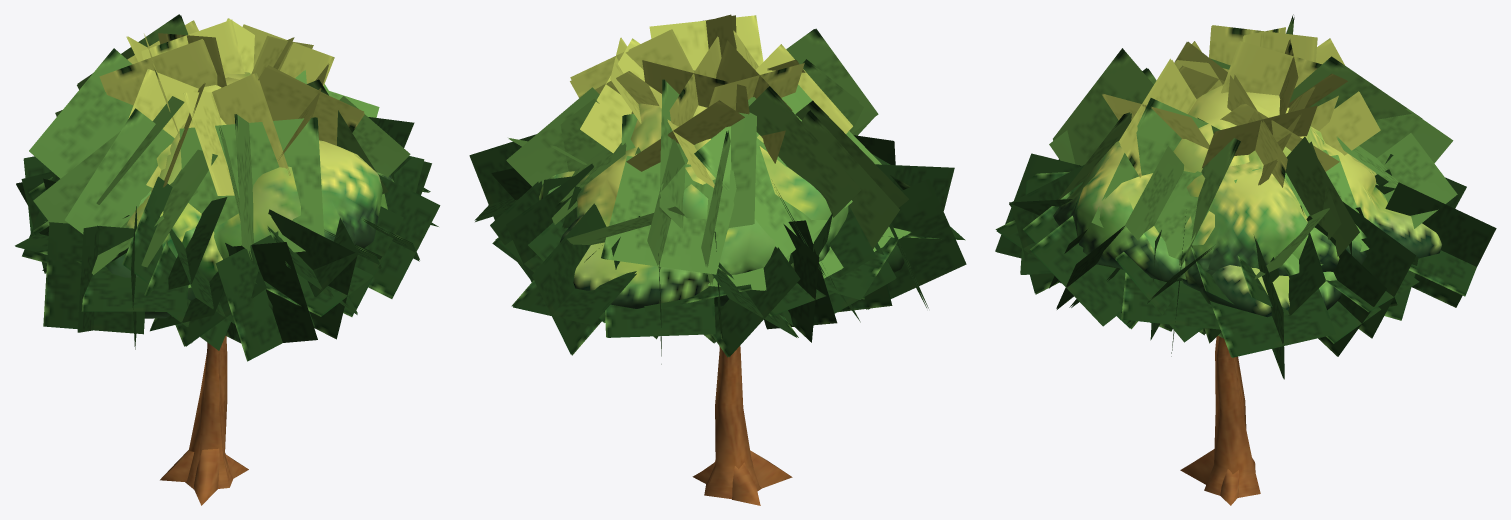
Rendered from tree2.glb.
3 views of the same model, side by side, from view 1: azimuth 30°, elevation 25°; view 2: azimuth 150°, elevation 25°; view 3: azimuth 270°, elevation 25° (orthographic). The views are drawn at different scales.
Visible parts, largest first — view 1: leaf; view 2: leaf; view 3: leaf.
Part boxes in pixels (<box>): leaf: <box>15,14,440,505</box>; leaf: <box>469,14,966,505</box>; leaf: <box>995,14,1496,505</box>.
Bounding box in the file's own units: 4.75 × 4.86 × 4.89.
1 material, 1 textured.
